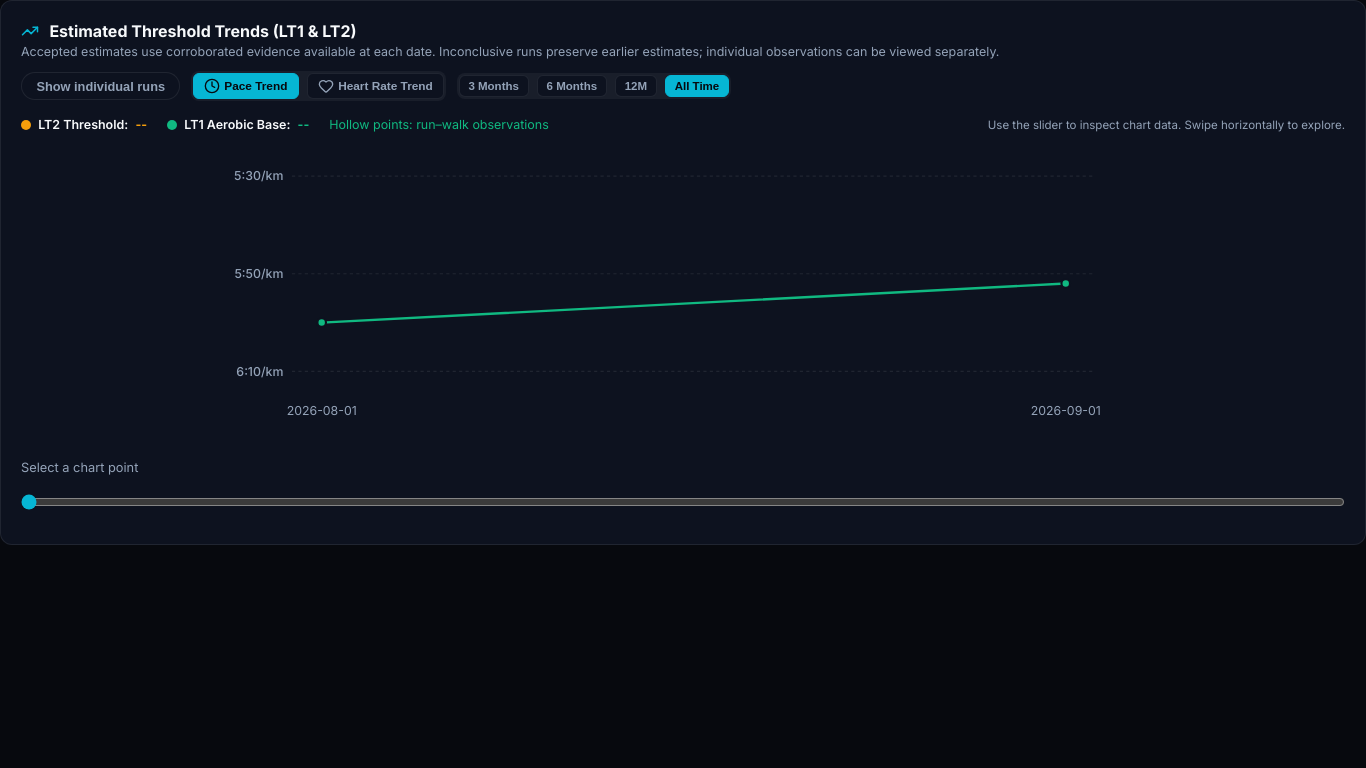
Test: Threshold chart date ranges › uses a slider to update a full-width selection card outside the horizontally scrollable chart
Set the slider labelled "Select a chart point" to "1" at [1337, 502], box [21,480,1345,524]
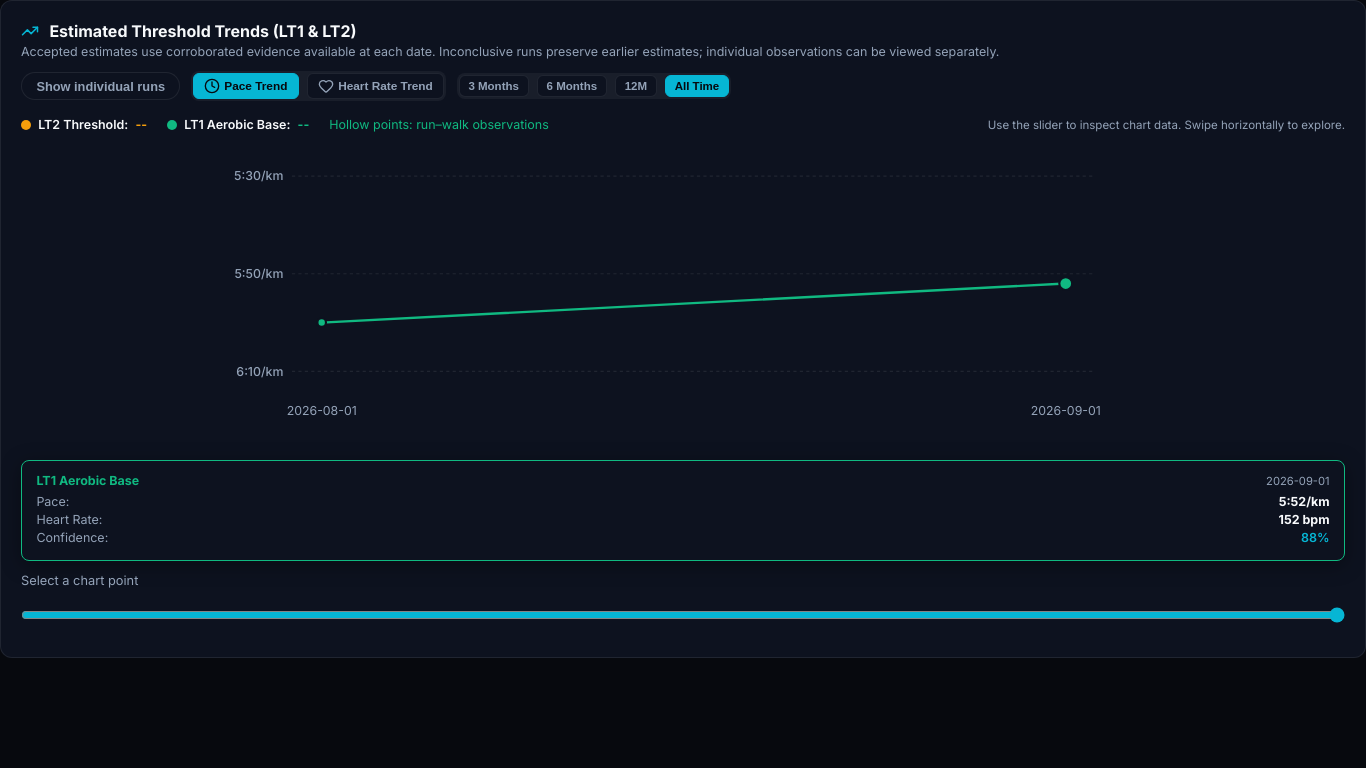
Now the message "LT1 Aerobic Base 2026-09-01 Pace: 5:52/km Heart Rate: 152 bpm Confidence: 88%" is shown, box [21,460,1345,561]
Now the message with class "threshold-trend-tooltip" shows "2026-09-01", box [1266,474,1330,488]
Set the slider labelled "Select a chart point" to "0" at [29, 615], box [21,593,1345,637]
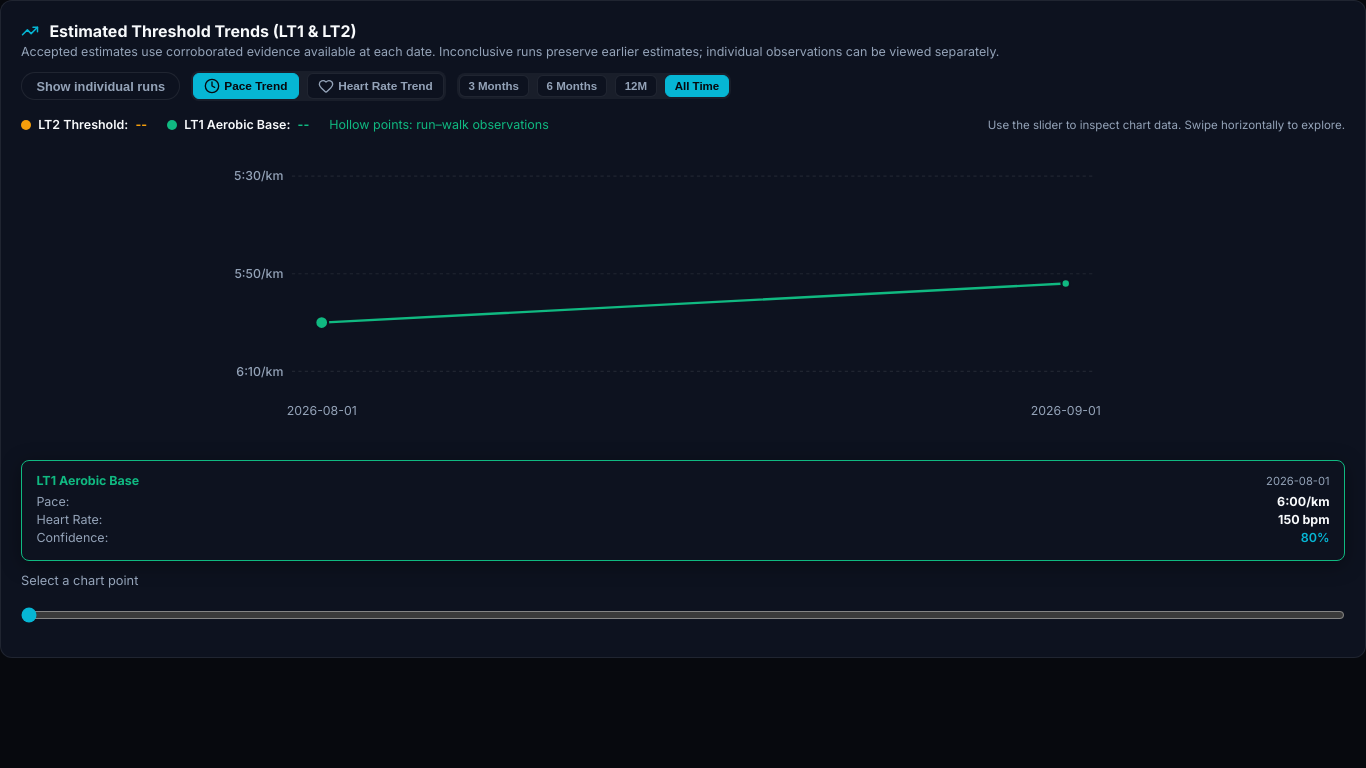
Now the message with class "threshold-trend-tooltip" shows "2026-08-01", box [1266,474,1330,488]
